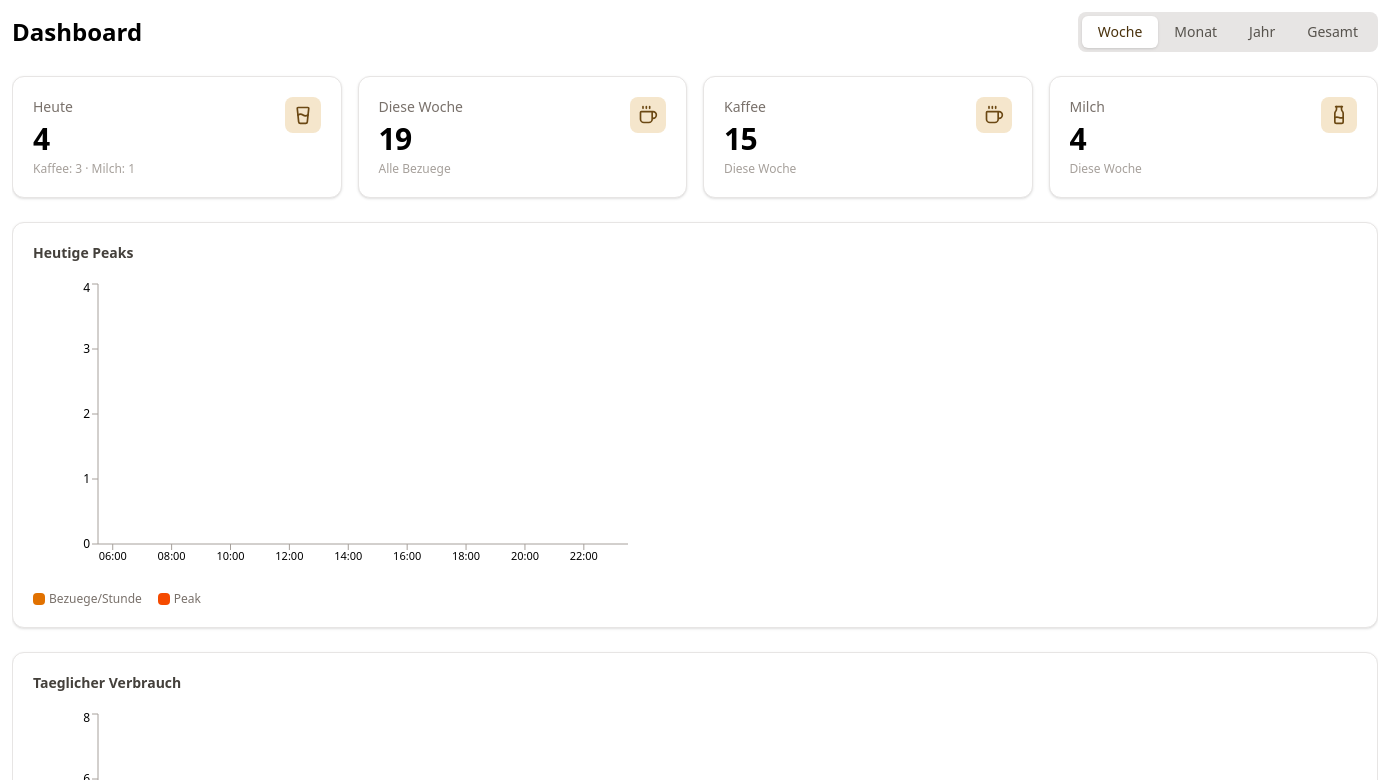
Test: DashboardPage › reloads the range when the period changes
Expected: the heading "Taeglicher Verbrauch" is shown, [33,673,181,692]
Click the button "Jahr" at (1262, 32), box [1233,16,1291,48]
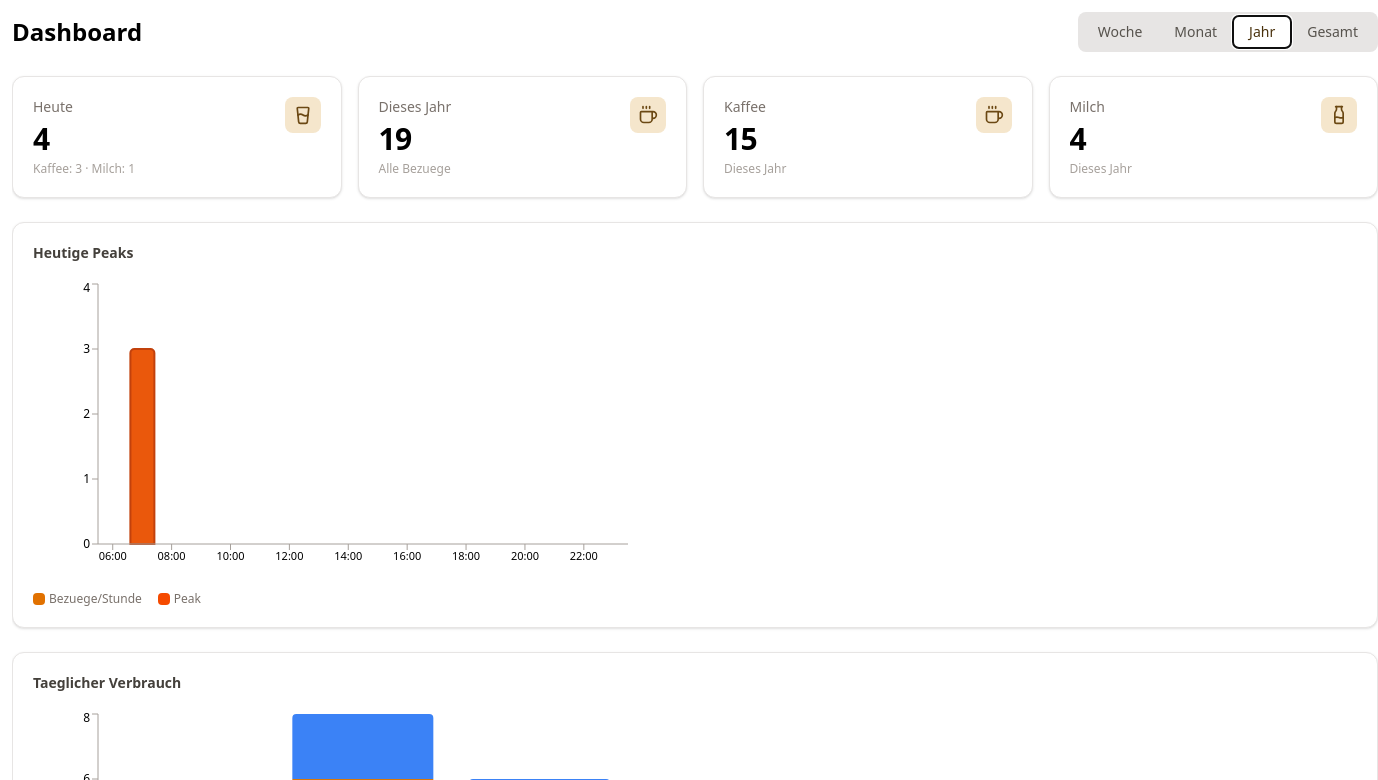
Expected: the 1st text "Dieses Jahr" is shown, [378,97,451,117]
